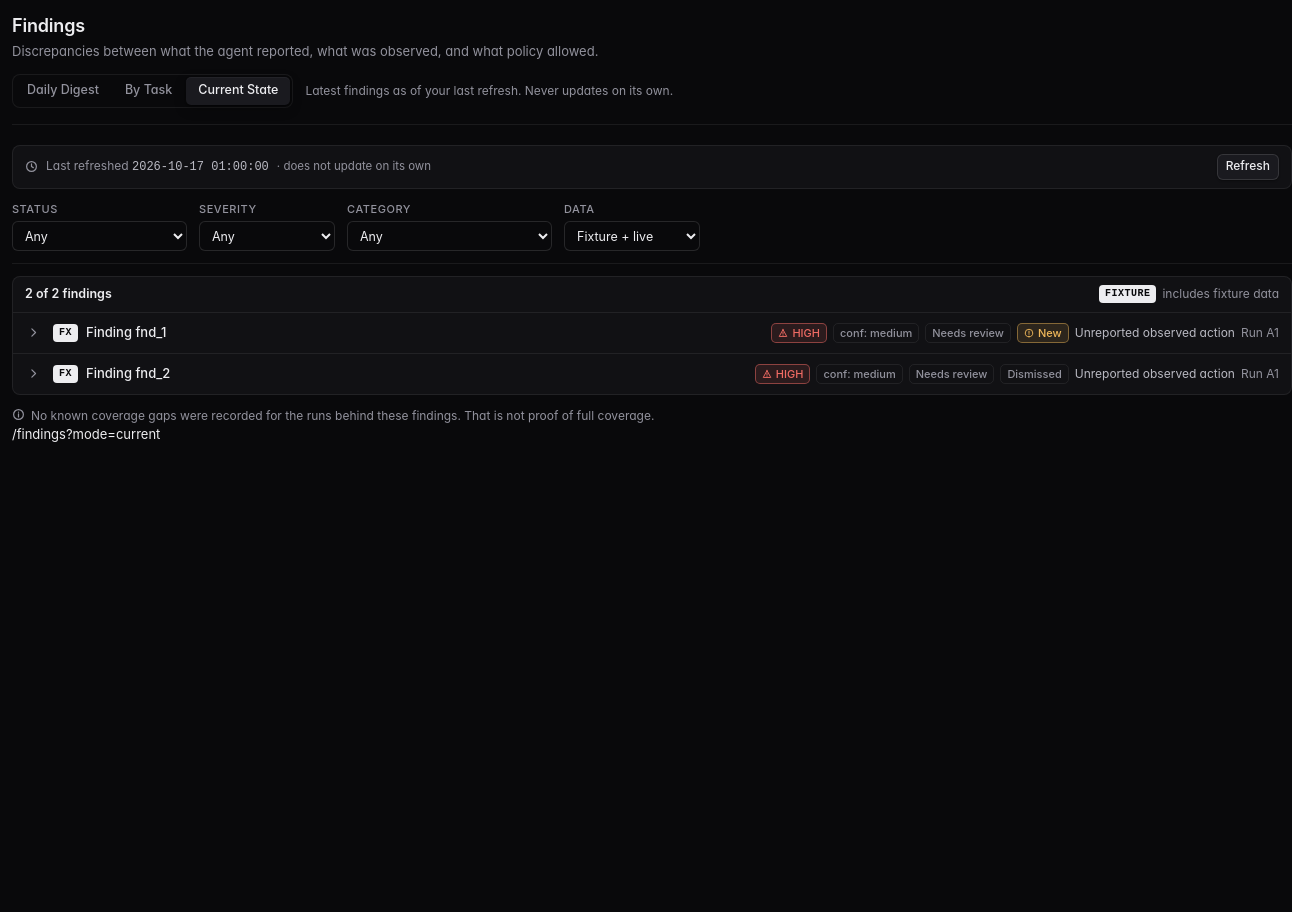
verification additions (refresh, context preservation, error states) › Current State refresh keeps filters and expanded rows; switching modes and back shows the cached snapshot without fetching
Expected: the link "Finding fnd_1" is shown, [86,324,166,340]
Select "Open (needs attention)" in the dropdown labelled "Status" at (100, 236), box [12,221,187,251]
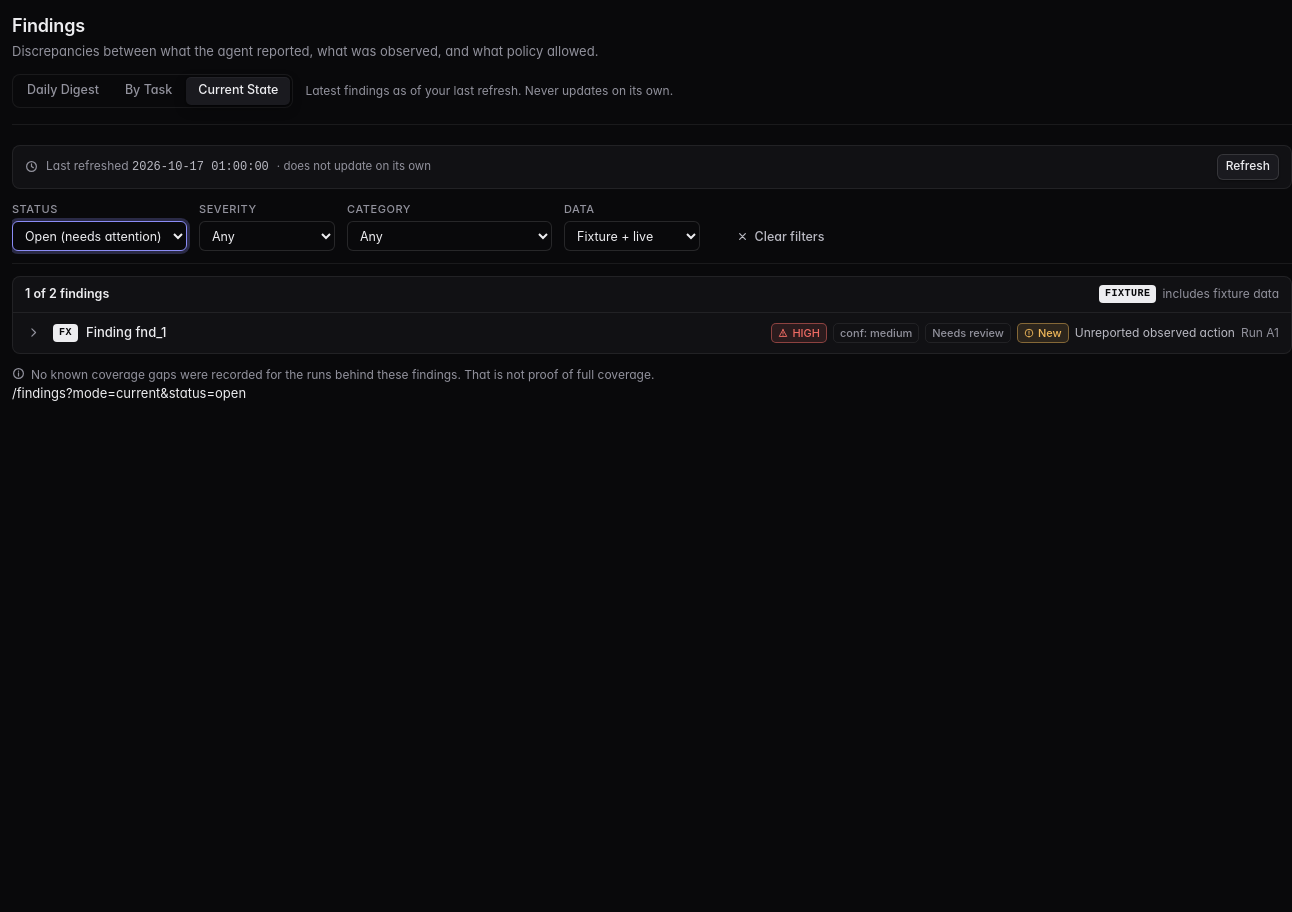
Click the button named "Expand Finding fnd_1".
click(33, 333)  # box [21,321,45,345]
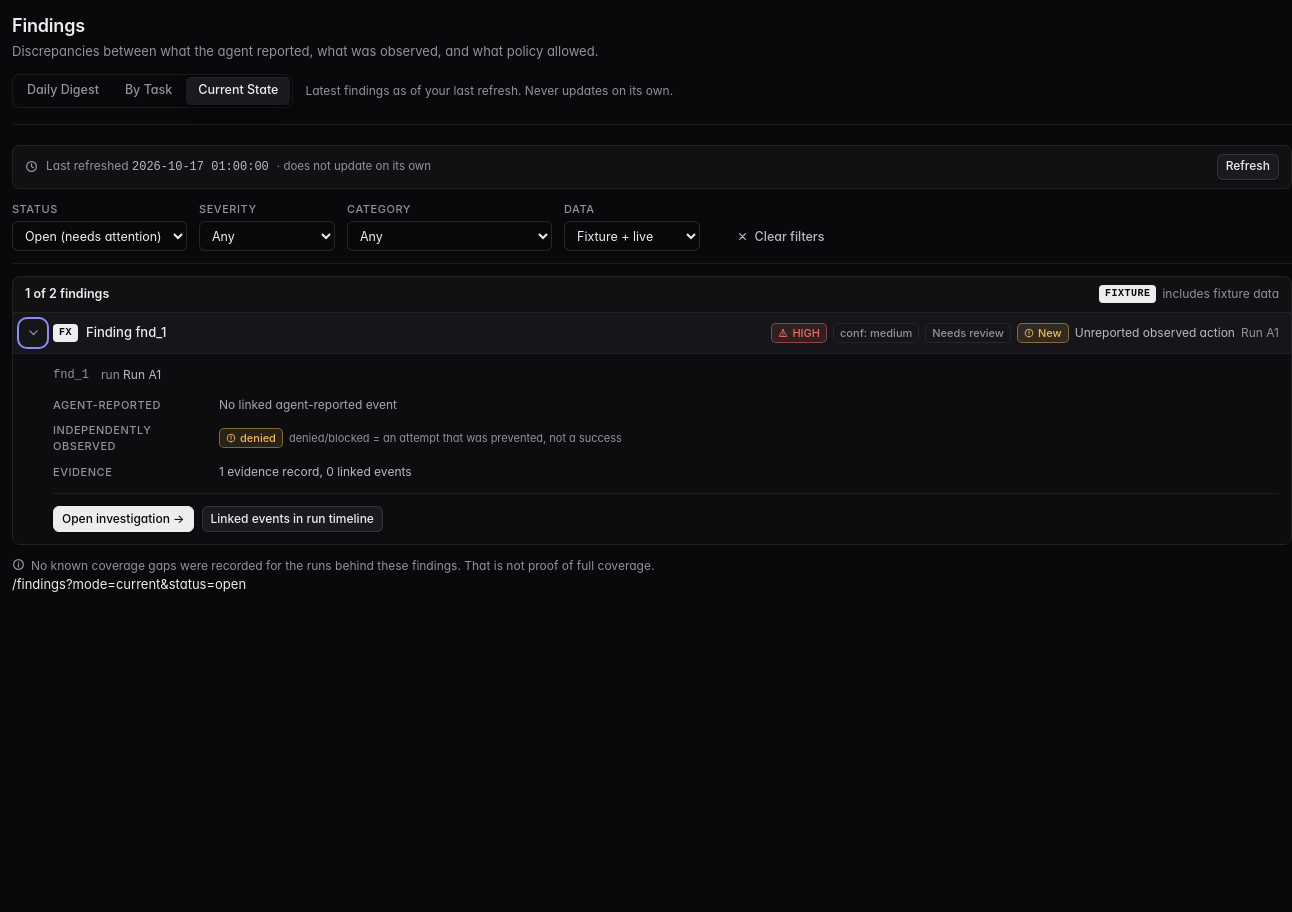
Click the button "Refresh".
click(1248, 166)  # box [1217,154,1279,180]
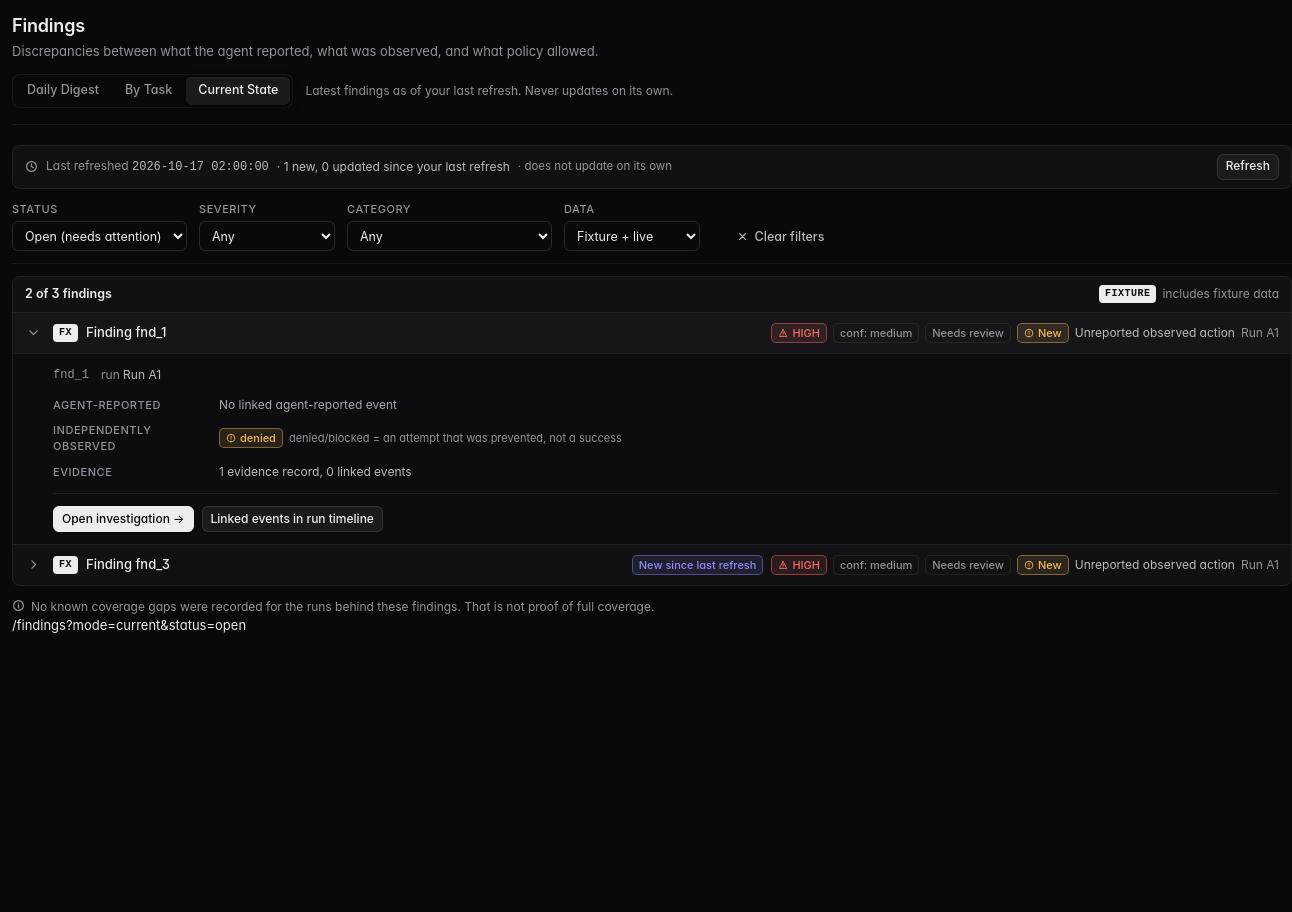
Expected: the button named "Collapse Finding fnd_1" is expanded, [21,321,45,345]
Expected: the text "· 1 new, 0 updated since your last refresh" is shown, [277,158,510,176]
Expected: the link "Finding fnd_3" is shown, [86,556,170,572]
Click the radio button labelled "By Task".
click(149, 90)  # box [113,76,184,104]
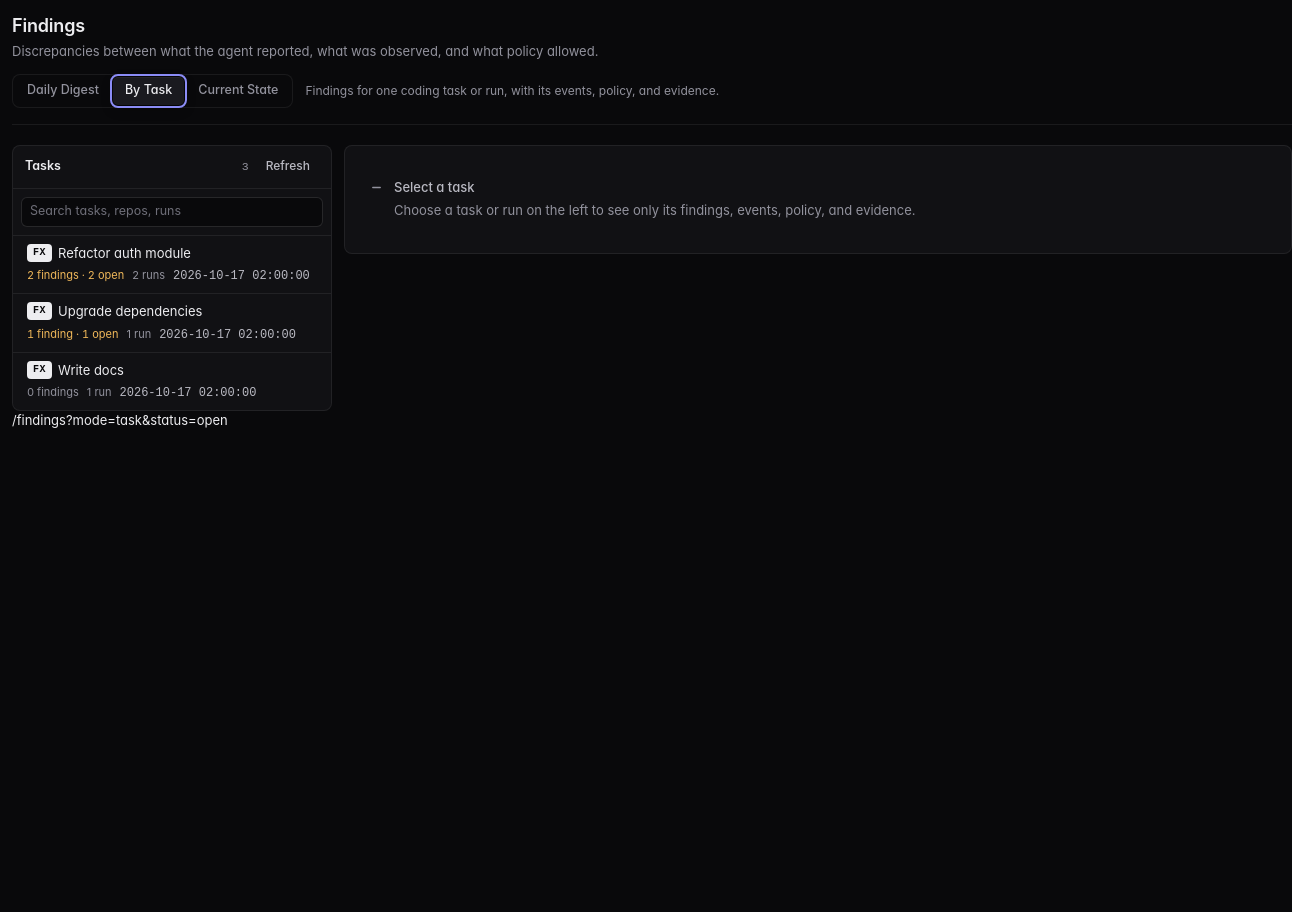
Click the radio button labelled "Current State".
click(238, 90)  # box [186,76,290,104]
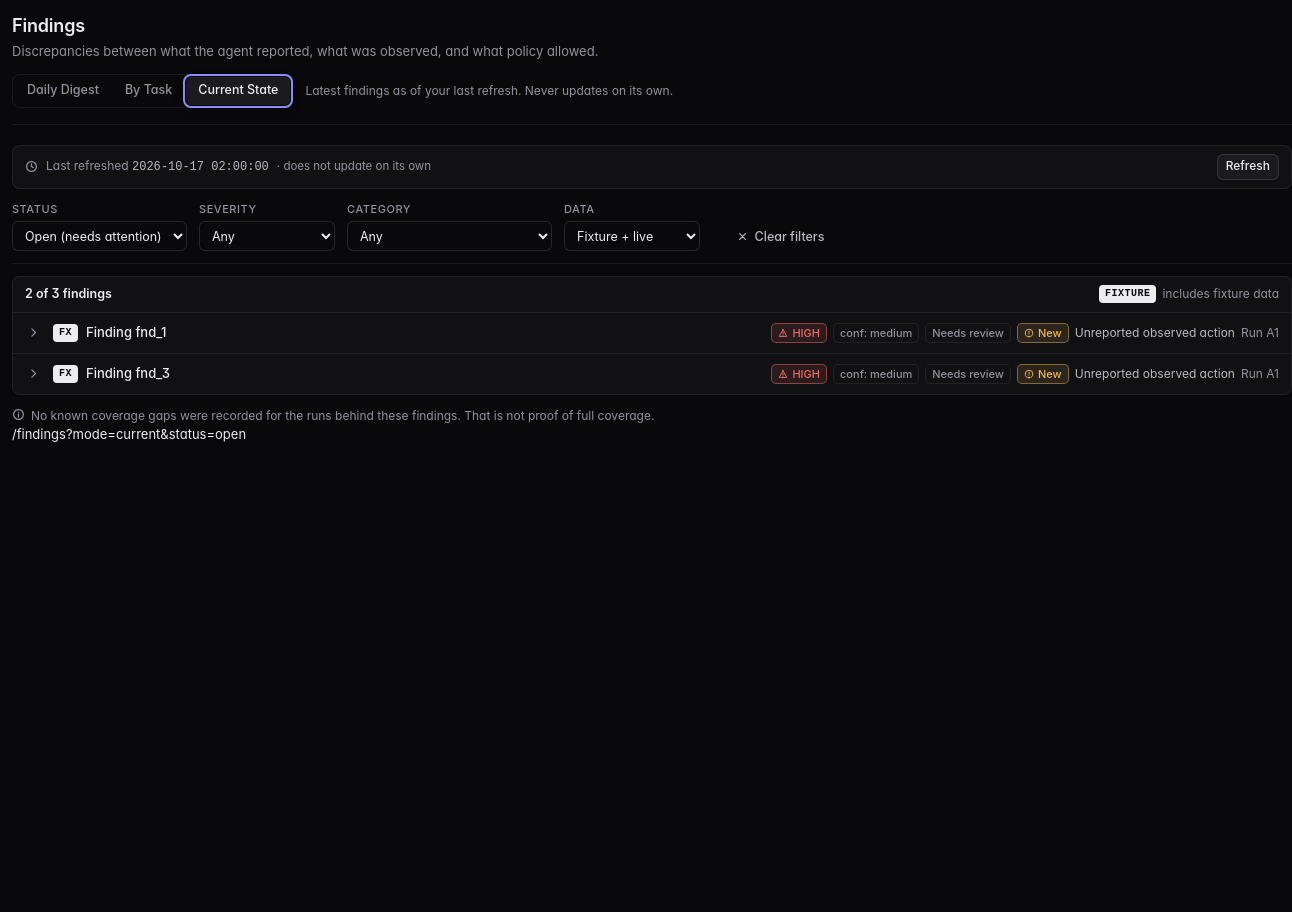
Expected: the link "Finding fnd_3" is shown, [86,365,170,381]
